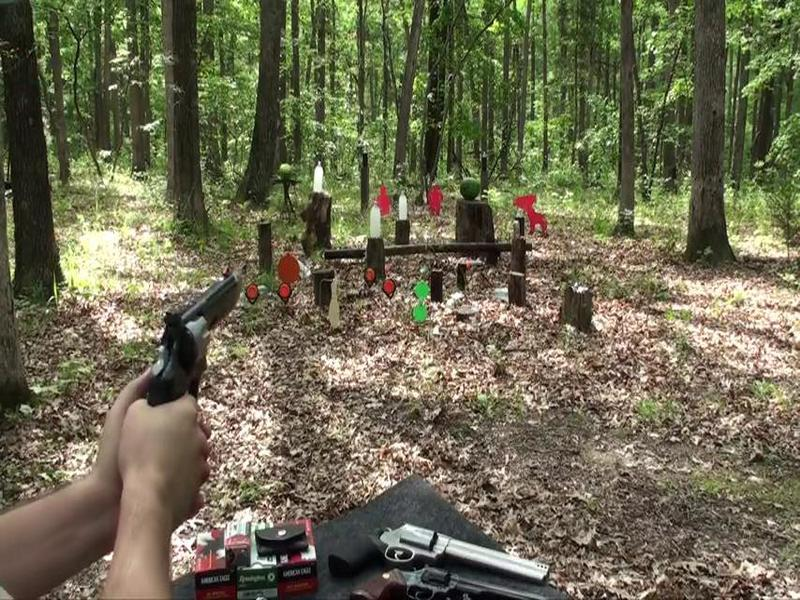Revolver: (130, 261, 251, 441)
